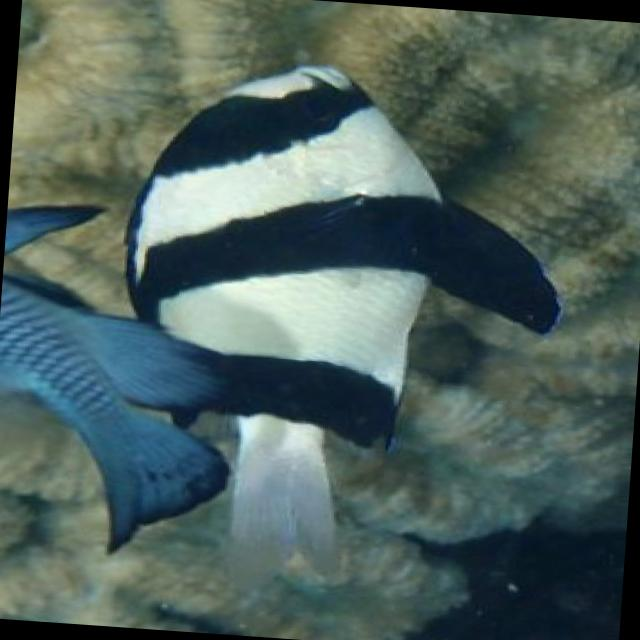ThreeStripedDamselfish: (125, 63, 563, 551)
